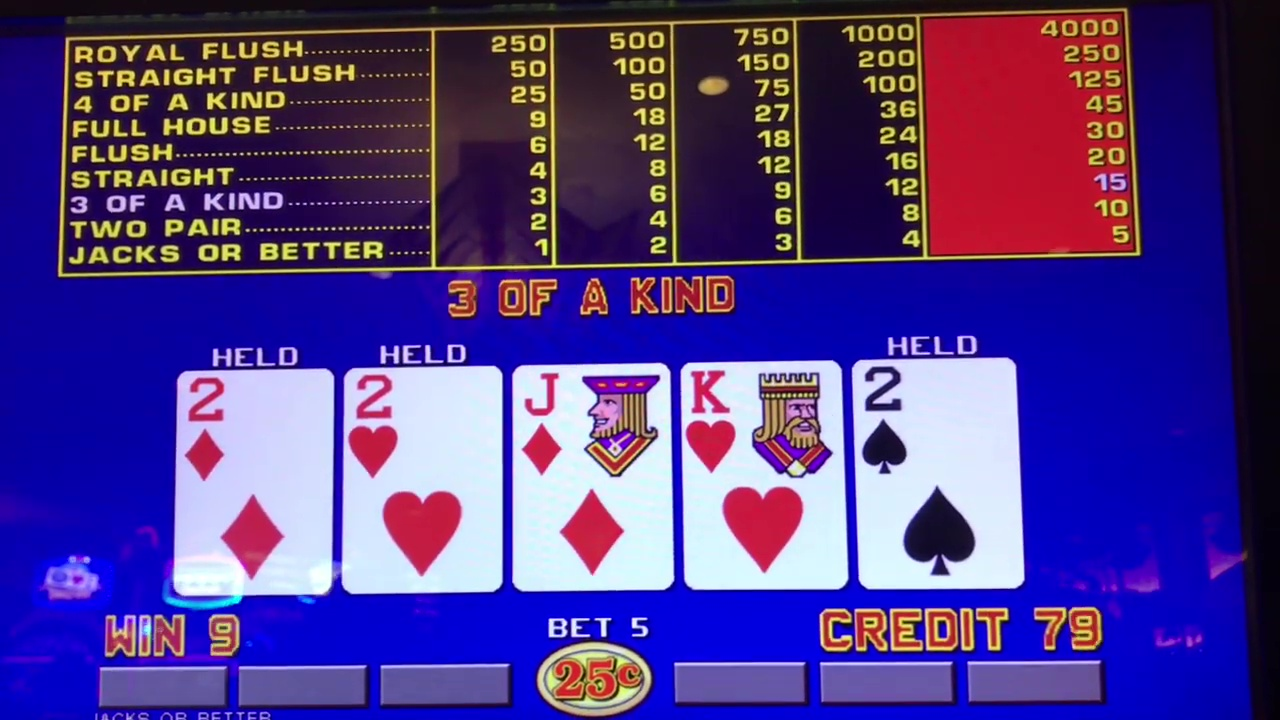D2: (179, 373, 330, 478)
DJ: (520, 366, 660, 475)
H2: (348, 367, 500, 475)
HK: (686, 366, 841, 475)
S2: (860, 362, 1010, 474)
